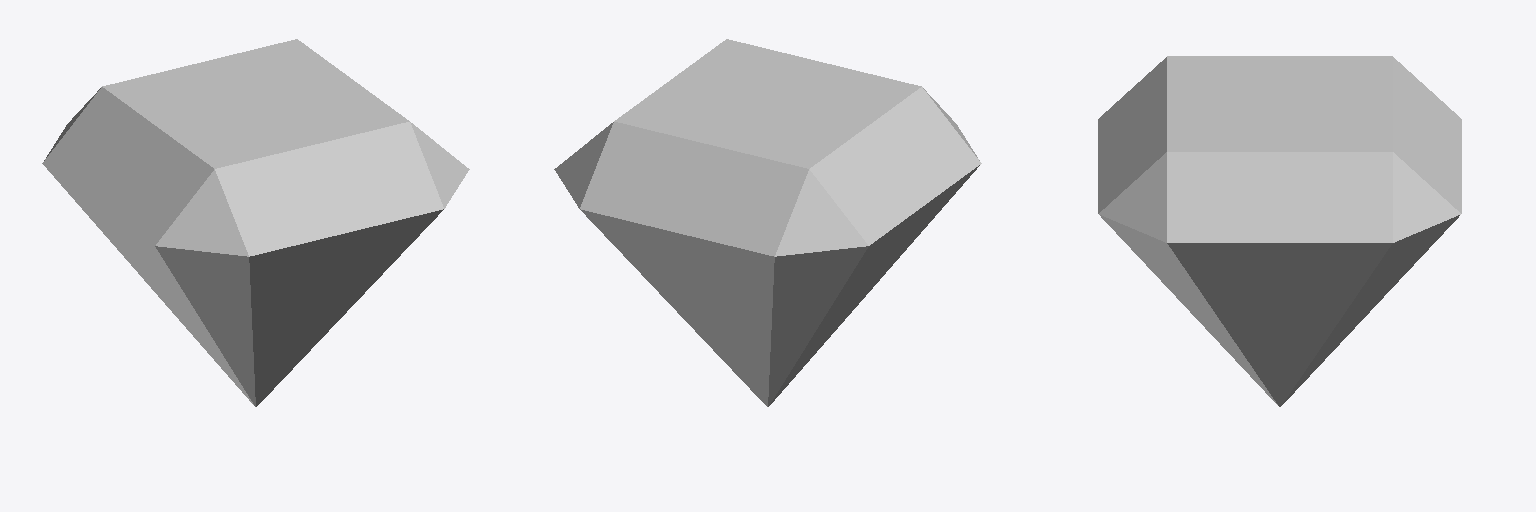
The model's file is primitive_gem_diamond.obj.
3 renders of one model, left to right at view 1: azimuth 30°, elevation 25°; view 2: azimuth 150°, elevation 25°; view 3: azimuth 270°, elevation 25°, orthographic.
Visible parts, largest first — view 1: primitive_gem_diamond group1; view 2: primitive_gem_diamond group1; view 3: primitive_gem_diamond group1.
Boxes of the visible parts, x1,y1,x2,y2 form: primitive_gem_diamond group1: [42, 39, 469, 406]; primitive_gem_diamond group1: [554, 39, 981, 406]; primitive_gem_diamond group1: [1098, 56, 1461, 406].
Bounding box in the file's own units: 3.29 × 3.04 × 3.29.